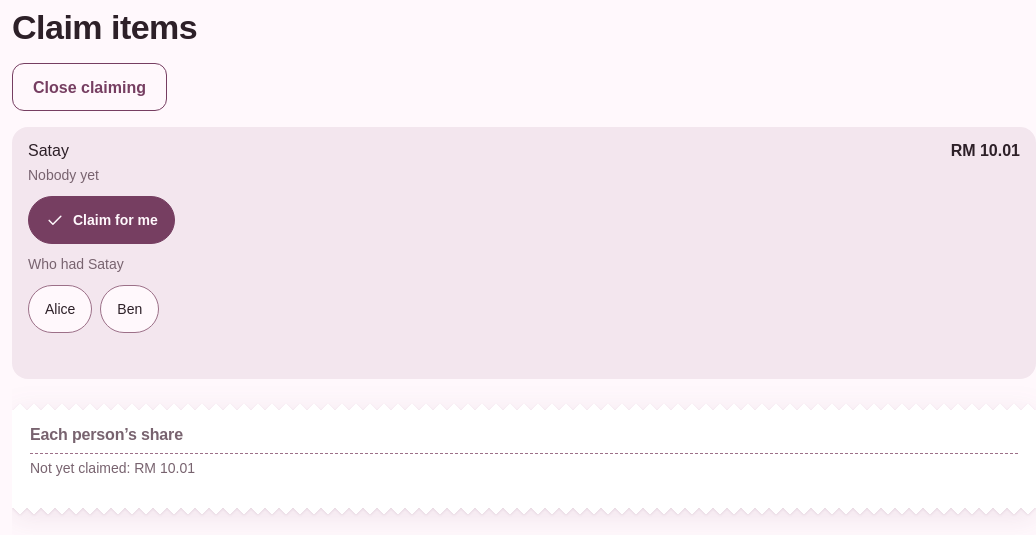
Test case: ClaimItemsPage › saving as soon as a name is tapped › shows Saving… and ignores taps on that item (keeping focus) while the save is in flight
Click the button "Ben": (130, 309) [100,285,159,333]
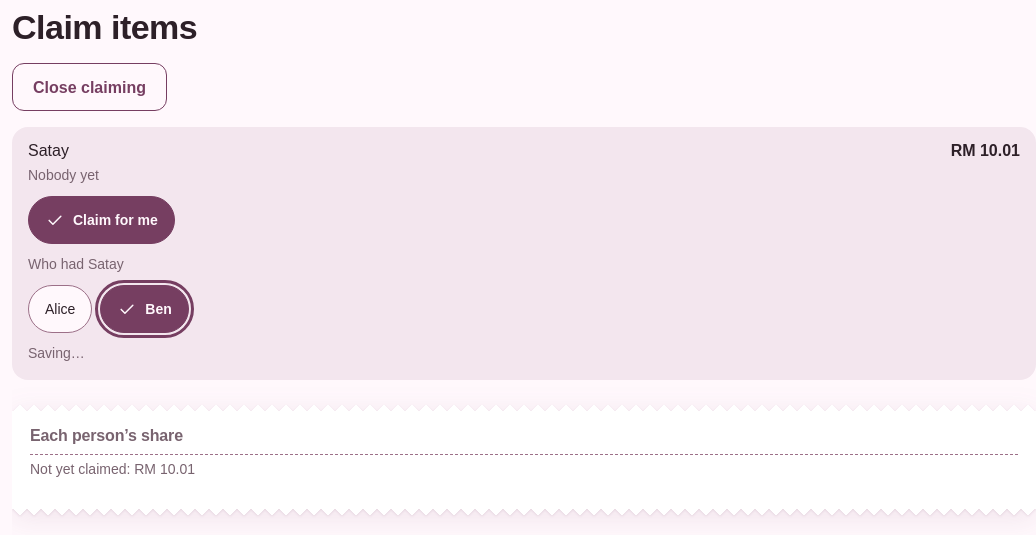
expect the text "Saving…" is shown: met, box [28,343,85,364]
expect the button "Ben" is enabled: met, box [100,285,189,333]
Click the button "Alice": (60, 309) [28,285,92,333]
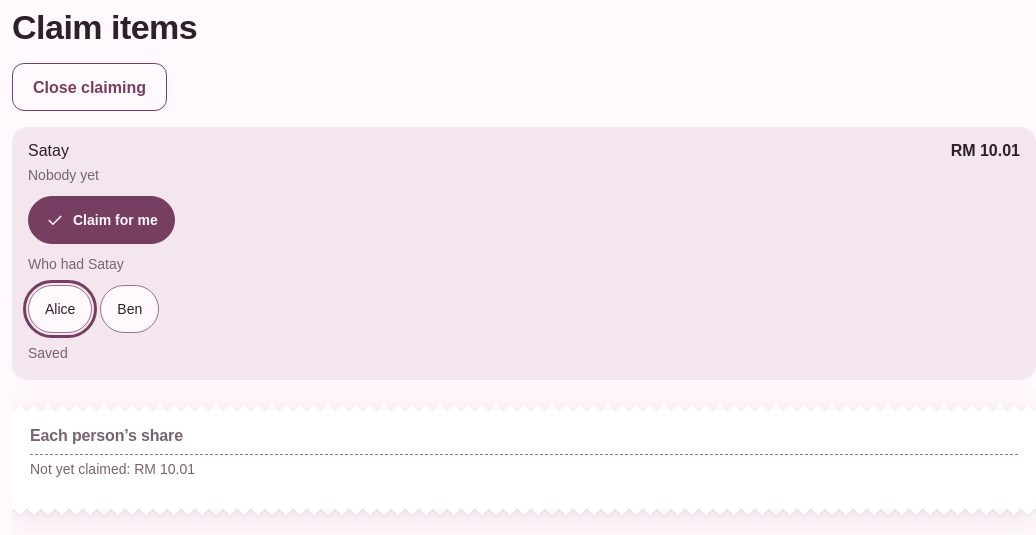
expect the text "Saved" is shown: met, box [28,343,68,364]
